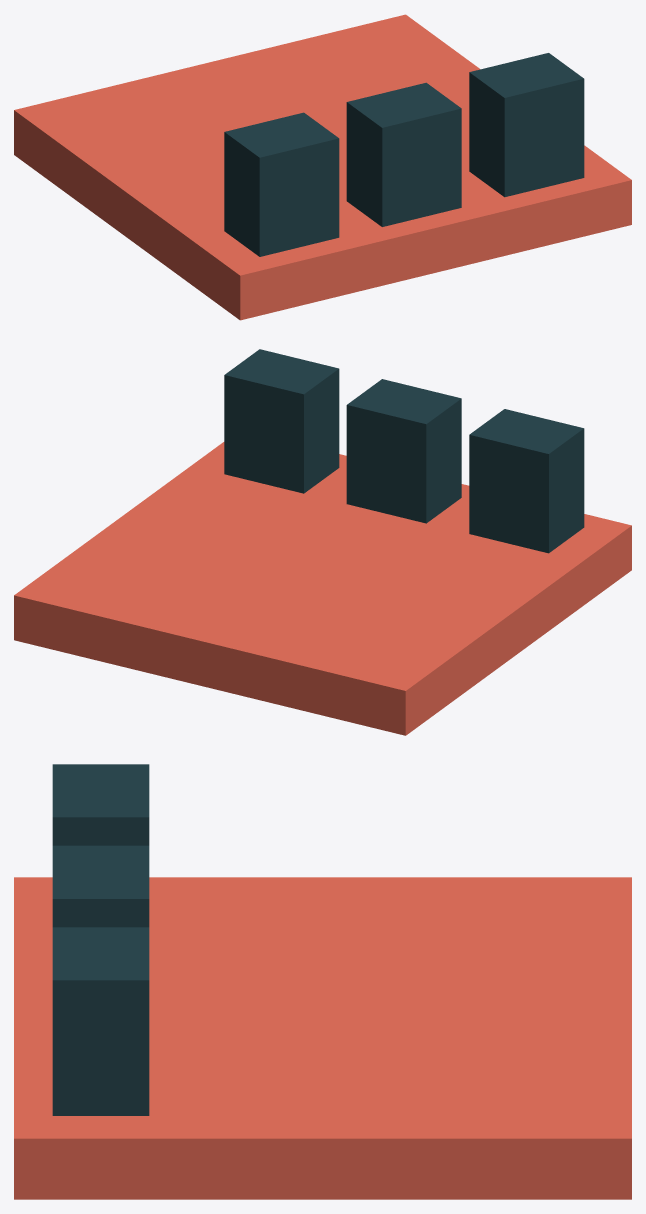
File: drop_carriage.glb
The picture shows the model from 3 angles, top to bottom: view 1: azimuth 30°, elevation 25°; view 2: azimuth 150°, elevation 25°; view 3: azimuth 270°, elevation 25°; orthographic projection. The views are drawn at different scales.
Parts seen in each view (by area): view 1: drop_carriage; view 2: drop_carriage; view 3: drop_carriage.
Part boxes in pixels (x1,y1,x2,y2): drop_carriage: (14, 14, 631, 320); drop_carriage: (14, 349, 631, 735); drop_carriage: (14, 764, 631, 1199).
Size of the model in its own units: 3.2 by 1.13 by 3.2.
